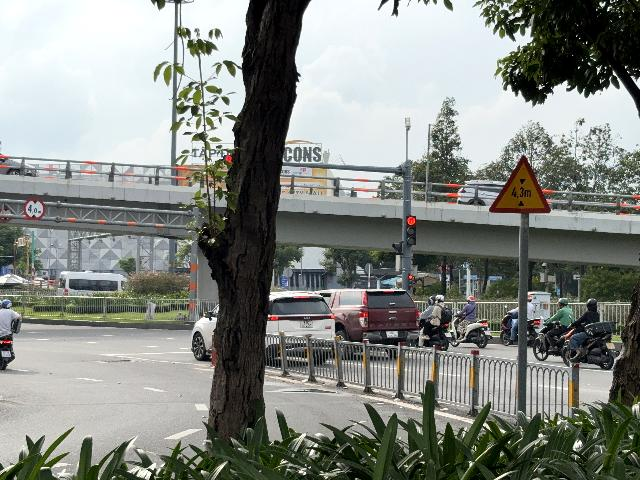chieu-cao-tinh-khong-thuc-te: (490, 156, 550, 213)
